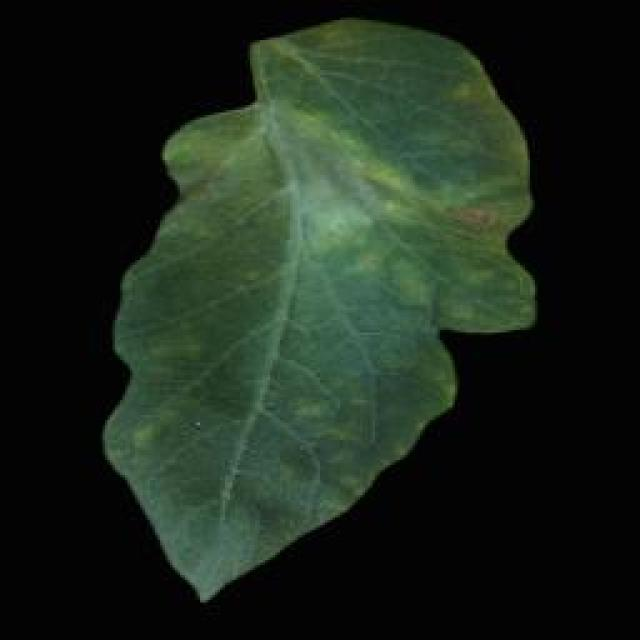Tomato Late Blight: (235, 81, 543, 362)
